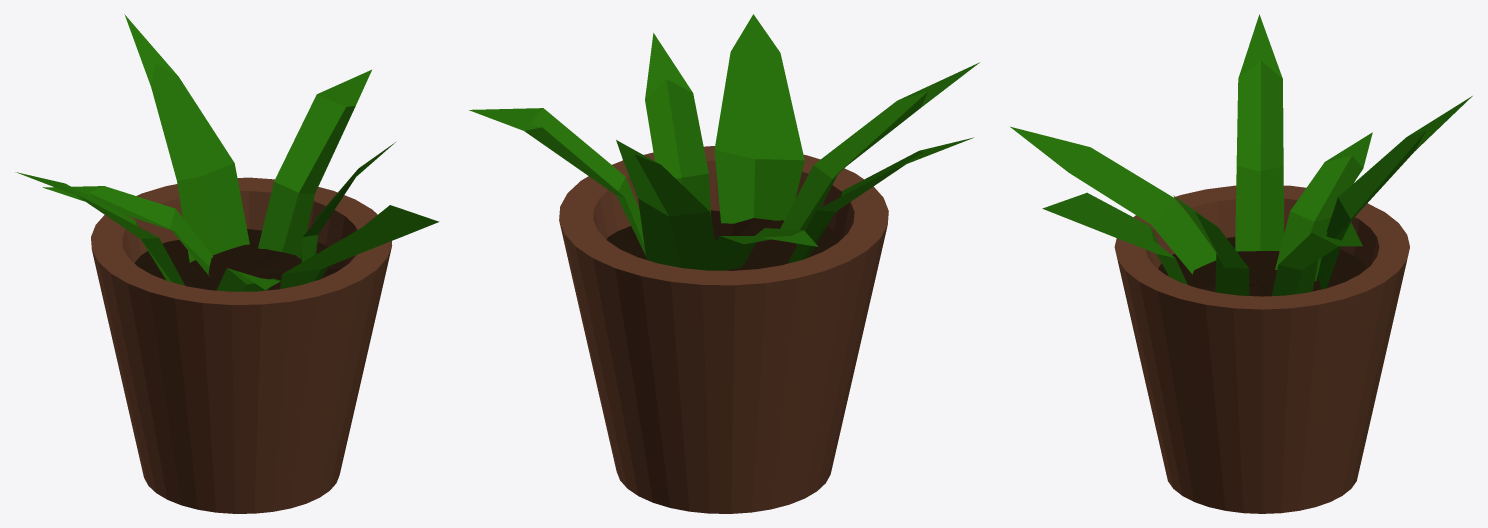
Rendered from potplant.gltf.
The picture shows the model from 3 angles, left to right: view 1: azimuth 30°, elevation 25°; view 2: azimuth 150°, elevation 25°; view 3: azimuth 270°, elevation 25°; orthographic projection. The views are drawn at different scales.
Visible parts, largest first — view 1: Cylinder; view 2: Cylinder; view 3: Cylinder.
Boxes of the visible parts, x1=… form: Cylinder: x1=15, y1=14, x2=439, y2=513; Cylinder: x1=469, y1=14, x2=979, y2=513; Cylinder: x1=1010, y1=14, x2=1472, y2=513.
Size of the model in its own units: 4.83 by 4.28 by 4.82.
